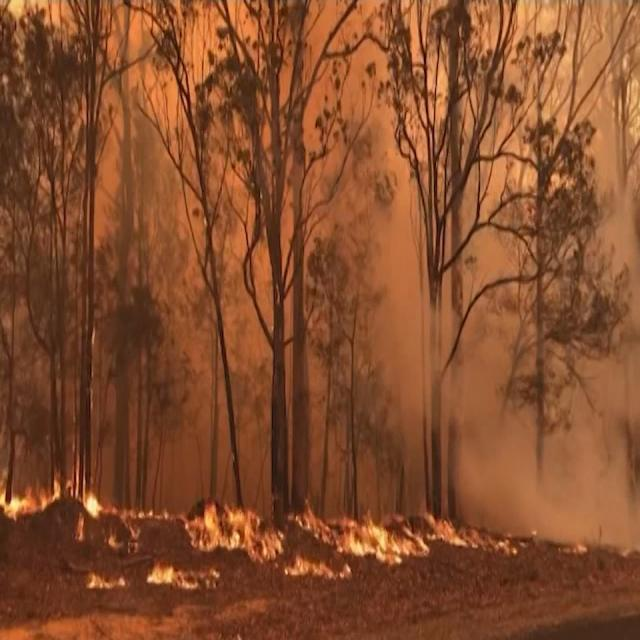Fire: (291, 493, 438, 573), (182, 493, 292, 567), (422, 502, 524, 560), (143, 550, 224, 598), (84, 486, 175, 528), (1, 467, 62, 527), (286, 552, 361, 588), (77, 566, 128, 594), (553, 539, 596, 559)
Smoke: (364, 268, 640, 554)
